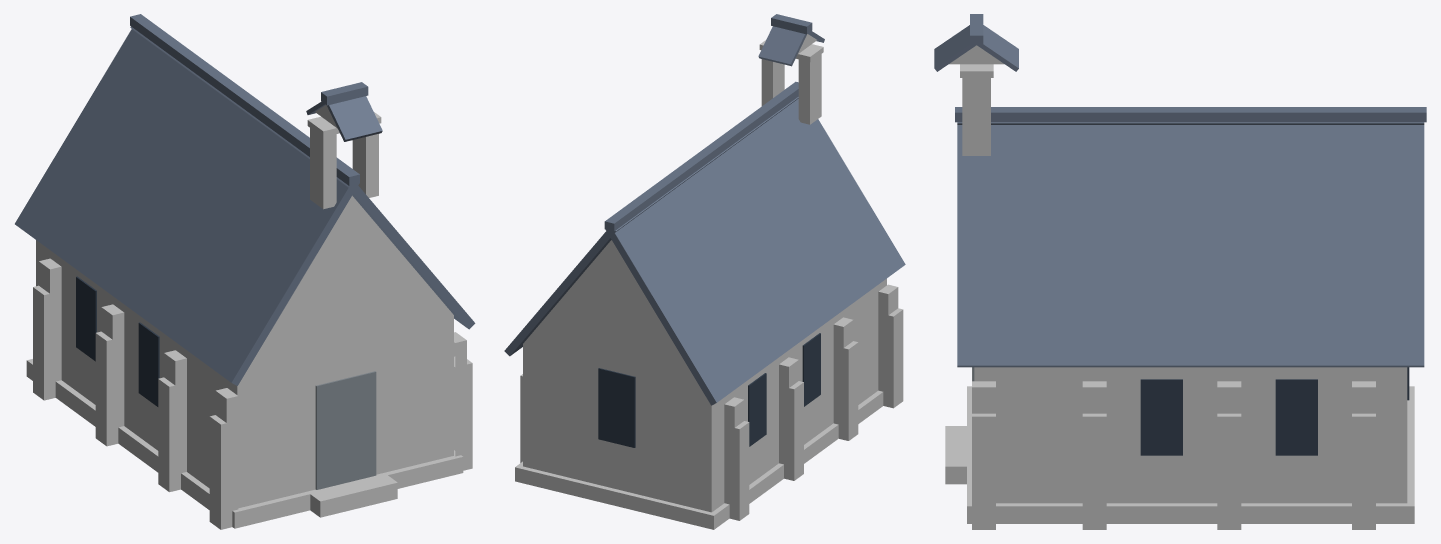
File: generated.chapel.gltf
3 renders of one model, left to right at view 1: azimuth 30°, elevation 25°; view 2: azimuth 150°, elevation 25°; view 3: azimuth 270°, elevation 25°, orthographic. The views are drawn at different scales.
Visible parts, largest first — view 1: chapel; view 2: chapel; view 3: chapel.
Boxes of the visible parts, box(x1,y1,x2,y2) form: chapel: box(15, 14, 475, 529); chapel: box(504, 14, 905, 529); chapel: box(934, 14, 1426, 529).
Size of the model in its own units: 6.5 by 10.07 by 10.23.
